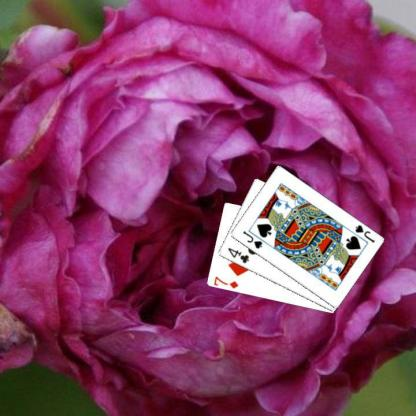4C: (226, 245, 250, 265)
7D: (212, 274, 239, 289)
JS: (240, 228, 263, 250), (352, 222, 375, 244)
